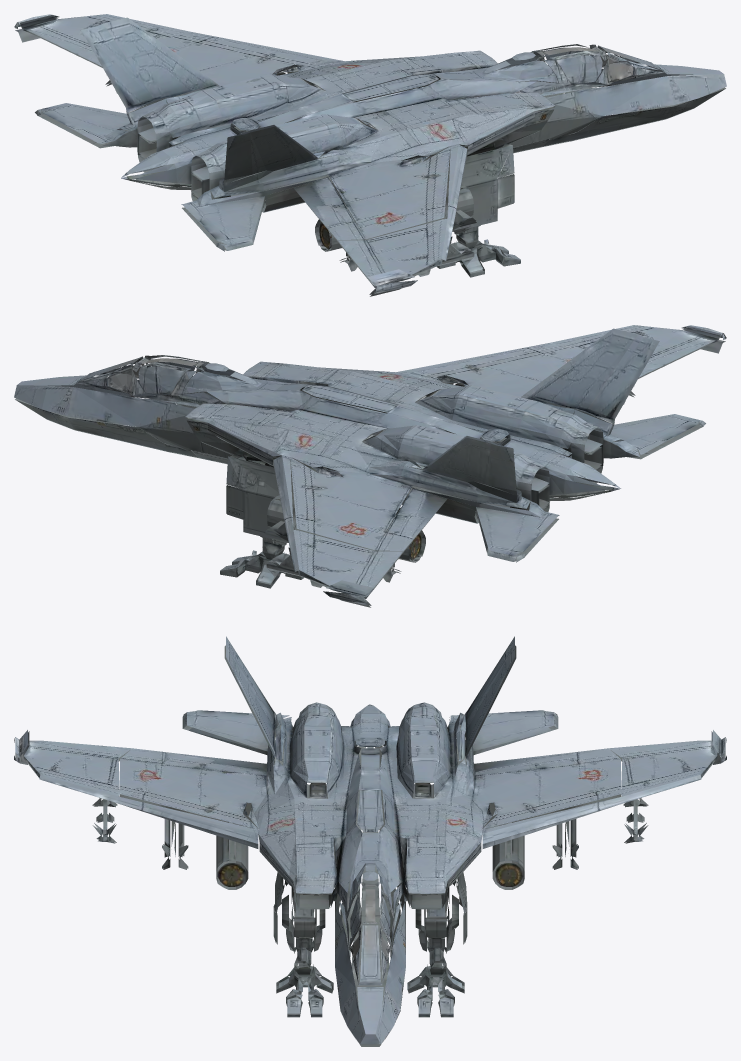
File: valkyrie_LOD1.glb
3 views of the same model, one above another, from view 1: azimuth 30°, elevation 25°; view 2: azimuth 150°, elevation 25°; view 3: azimuth 270°, elevation 25° (orthographic).
Parts seen in each view (by area): view 1: valkyrie_LOD1; view 2: valkyrie_LOD1; view 3: valkyrie_LOD1.
Boxes of the visible parts, left/top/right/bottom form: valkyrie_LOD1: left=14, top=14, right=726, bottom=296; valkyrie_LOD1: left=14, top=325, right=726, bottom=607; valkyrie_LOD1: left=14, top=636, right=726, bottom=1046.
Size of the model in its own units: 0.9609 by 0.3503 by 1.
1 material, 1 textured.
